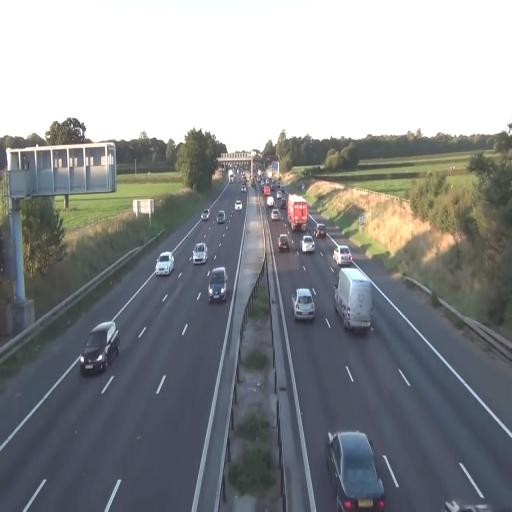vehicle: (326, 430, 385, 512), (334, 265, 372, 333), (334, 265, 372, 332), (80, 320, 120, 376), (287, 194, 308, 234), (293, 287, 316, 322), (207, 266, 228, 302), (155, 251, 174, 275), (276, 231, 294, 253), (336, 245, 354, 266), (192, 242, 208, 264), (300, 234, 316, 254), (217, 210, 226, 224)
